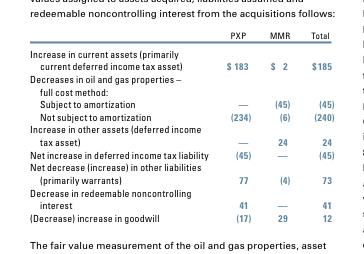table: (28, 29, 333, 223)
table column: (28, 29, 216, 223), (216, 29, 259, 223), (259, 29, 299, 223), (299, 29, 333, 223)
table column header: (28, 29, 333, 43)
table projected row header: (28, 71, 333, 97)
table row: (28, 43, 333, 71), (28, 71, 333, 97), (28, 122, 333, 147), (28, 160, 333, 185), (28, 185, 333, 210), (28, 29, 333, 43), (28, 109, 333, 122), (28, 147, 333, 160), (28, 210, 333, 223), (28, 97, 333, 109)
